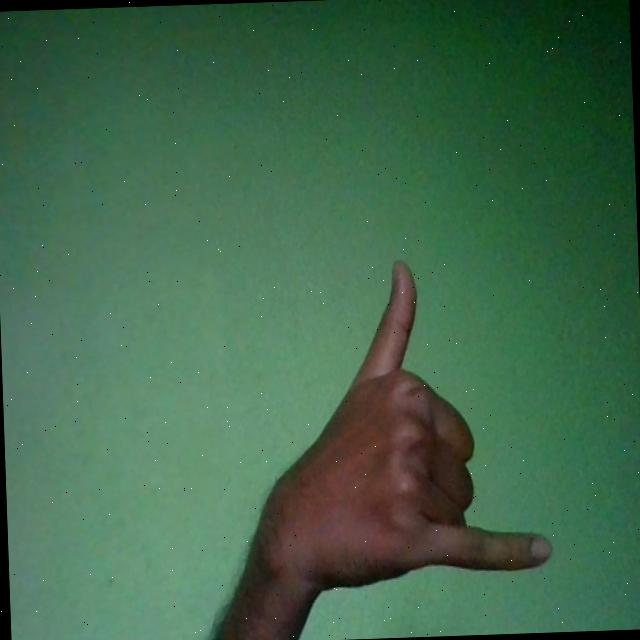Call Me: (233, 253, 551, 594)
